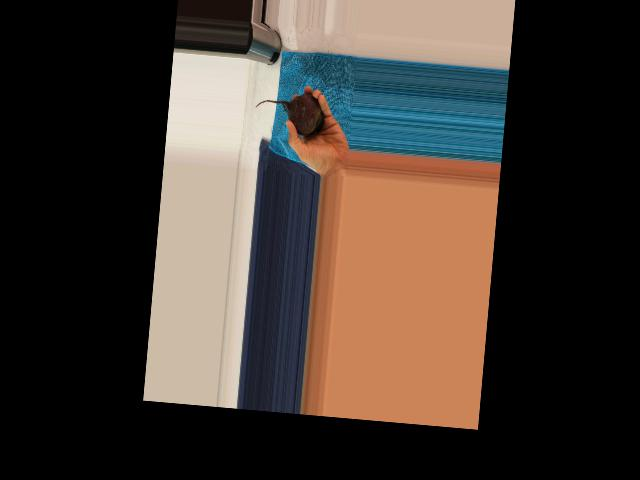beet: (253, 88, 327, 137)
